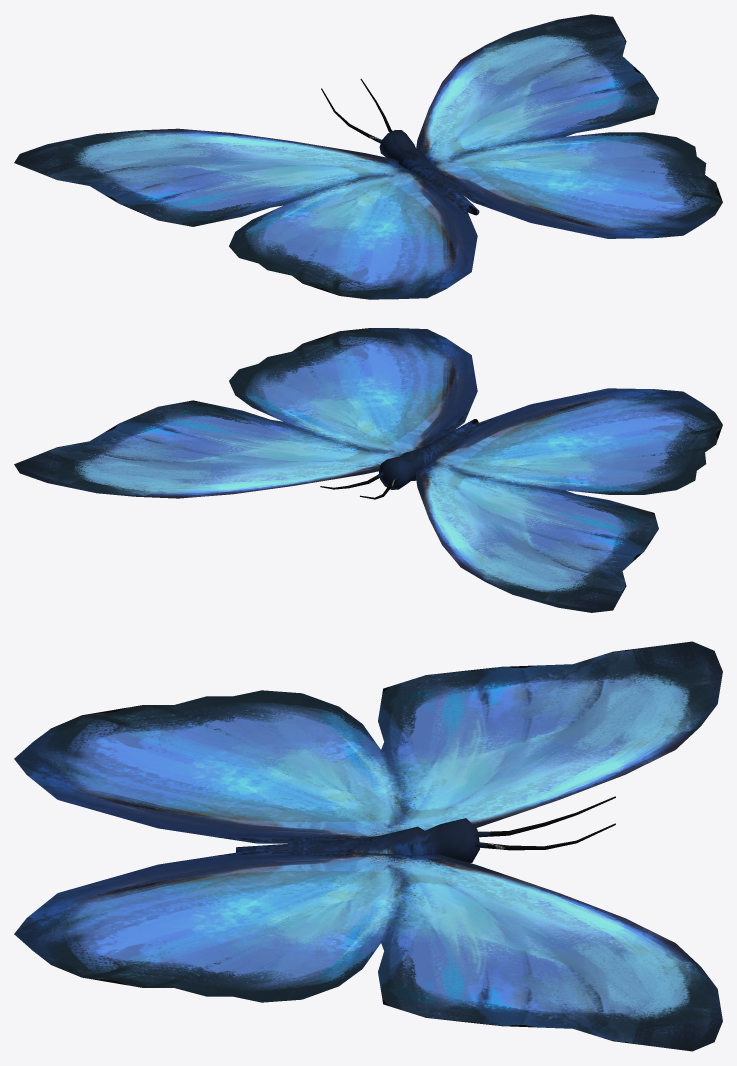
Rendered from Butterfly.gltf.
3 renders of one model, top to bottom at view 1: azimuth 30°, elevation 25°; view 2: azimuth 150°, elevation 25°; view 3: azimuth 270°, elevation 25°, orthographic. The views are drawn at different scales.
Visible parts, largest first — view 1: L_wing, R_wing, Body; view 2: L_wing, R_wing, Body; view 3: R_wing, L_wing, Body.
Part boxes in pixels (<box>): L_wing: <box>14,128,477,299</box>; R_wing: <box>416,14,722,238</box>; Body: <box>321,78,479,215</box>; L_wing: <box>415,388,722,612</box>; R_wing: <box>14,328,477,498</box>; Body: <box>320,419,478,499</box>; R_wing: <box>14,849,722,1051</box>; L_wing: <box>14,641,722,843</box>; Body: <box>236,796,615,862</box>.
Bounding box in the file's own units: 1.18 × 0.0806 × 0.8629.
1 material, 1 textured.
